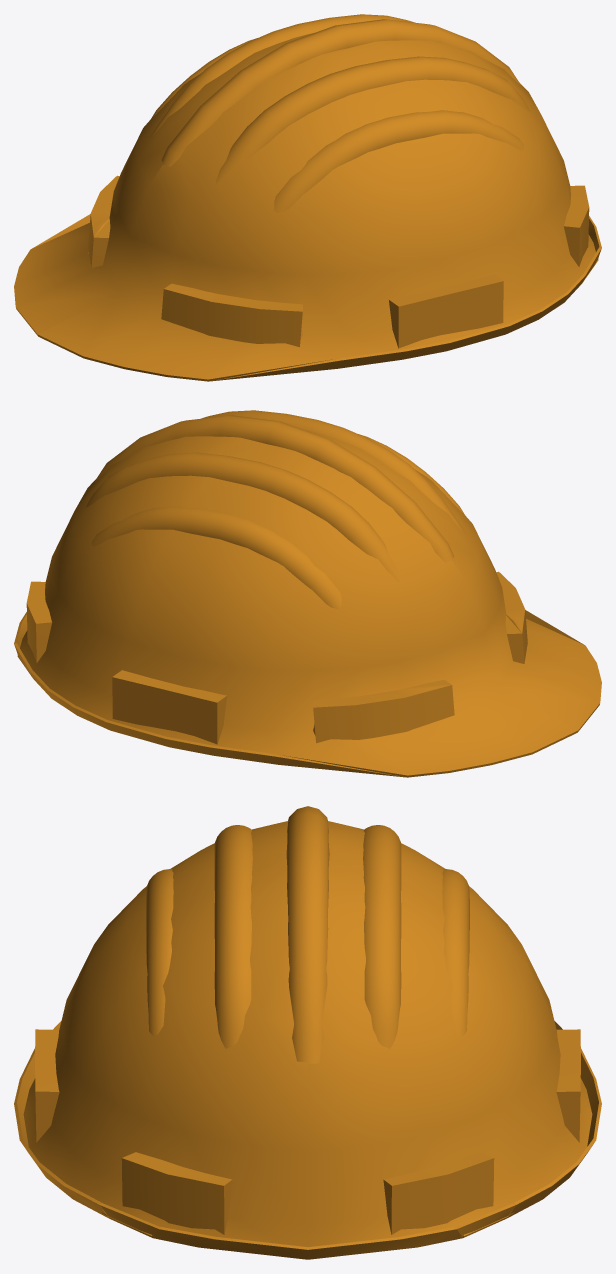
The model's file is helmet.glb.
The picture shows the model from 3 angles, top to bottom: view 1: azimuth 30°, elevation 25°; view 2: azimuth 150°, elevation 25°; view 3: azimuth 270°, elevation 25°; orthographic projection. The views are drawn at different scales.
Parts seen in each view (by area): view 1: helmet; view 2: helmet; view 3: helmet.
Boxes of the visible parts, x1,y1,x2,y2 form: helmet: (14, 14, 601, 381); helmet: (14, 410, 601, 777); helmet: (14, 806, 601, 1259).
Bounding box in the file's own units: 0.7101 × 0.2983 × 0.5527.
Materials: 1 (1 with a texture image).
